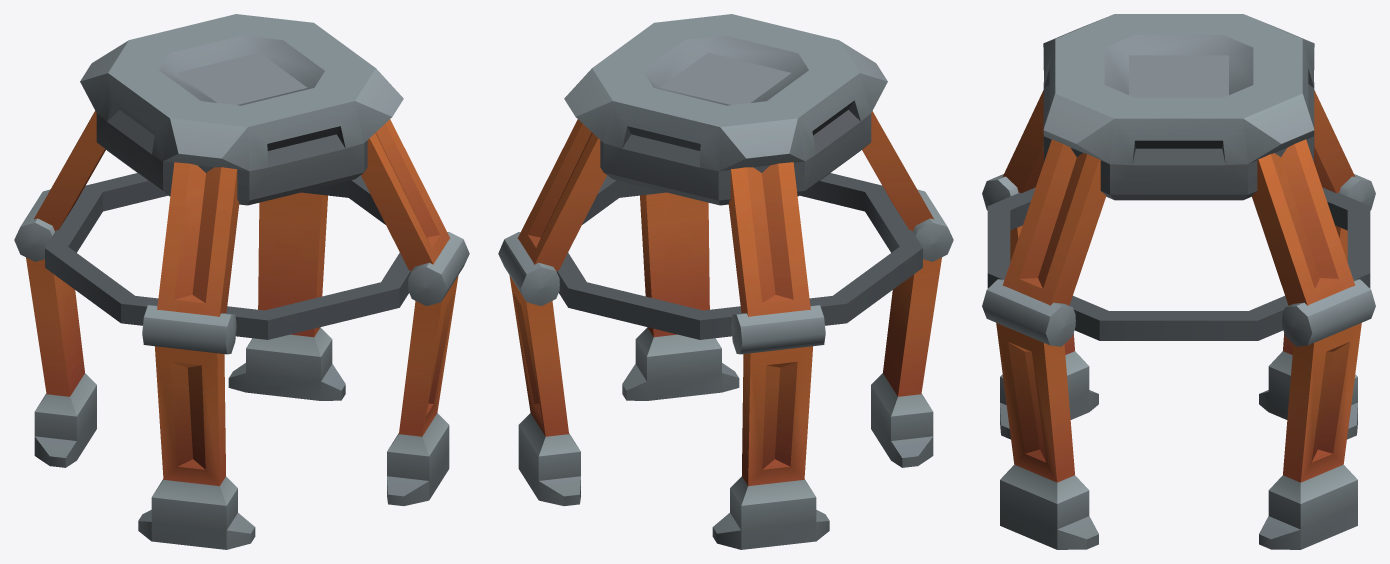
The model's file is structure_tall.glb.
3 views of the same model, side by side, from view 1: azimuth 30°, elevation 25°; view 2: azimuth 150°, elevation 25°; view 3: azimuth 270°, elevation 25° (orthographic). The views are drawn at different scales.
Parts seen in each view (by area): view 1: structure_tall; view 2: structure_tall; view 3: structure_tall.
Part boxes in pixels (<box>): structure_tall: <box>14,14,469,549</box>; structure_tall: <box>498,14,953,549</box>; structure_tall: <box>982,14,1375,549</box>.
Size of the model in its own units: 1.75 by 2 by 1.75.
1 material, 1 textured.
